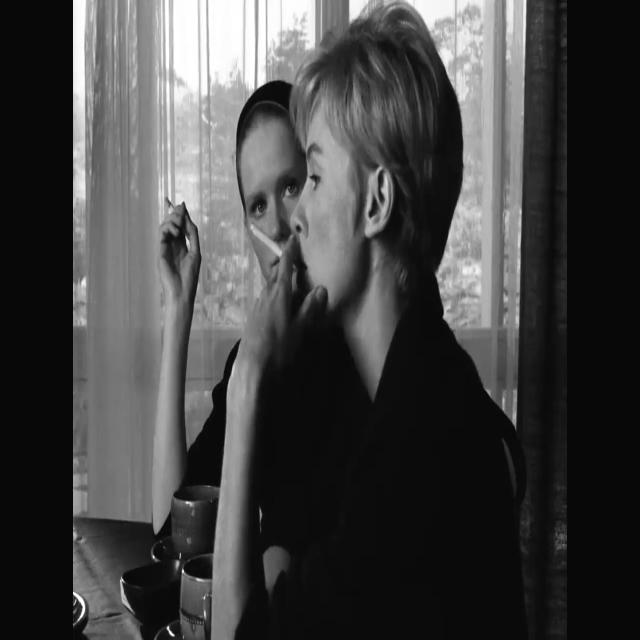Smooking: (248, 206, 288, 266)
